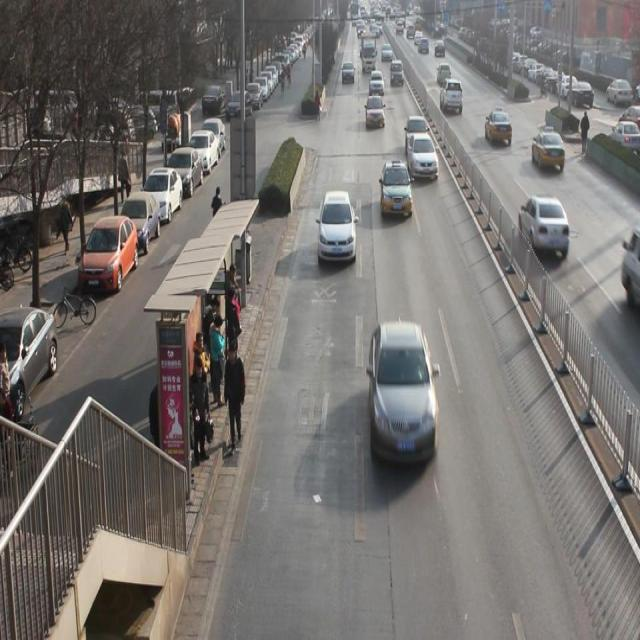car: (368, 321, 440, 471), (516, 192, 571, 256), (318, 192, 357, 260), (379, 161, 413, 216), (532, 128, 567, 174), (405, 134, 439, 180), (485, 108, 514, 148), (439, 82, 465, 115), (364, 96, 387, 129), (404, 118, 430, 144), (368, 69, 386, 97), (389, 60, 405, 86), (340, 60, 356, 86), (435, 64, 453, 84)
